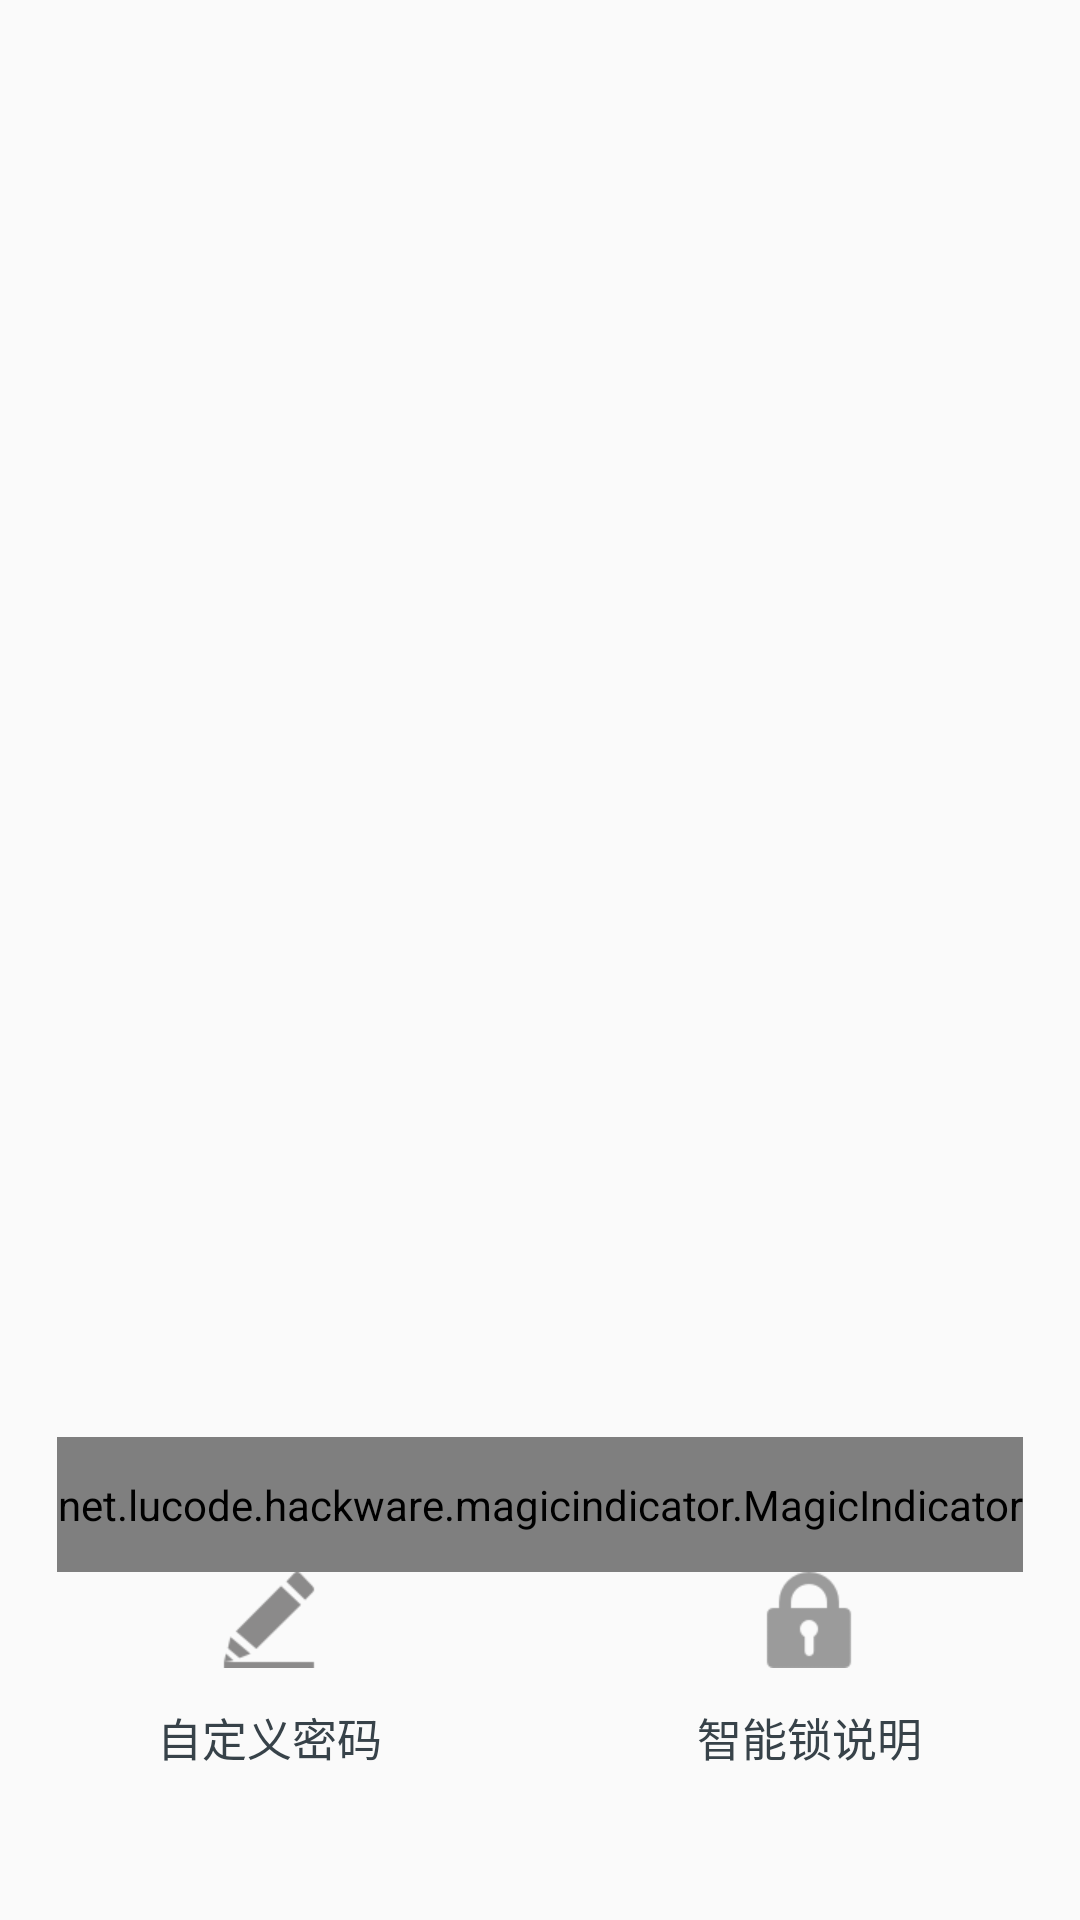

Icon click points for this 1080x1920 phone screenshot, format (x,y):
custom pwd: (269,1627)
lock specification: (809,1620)
